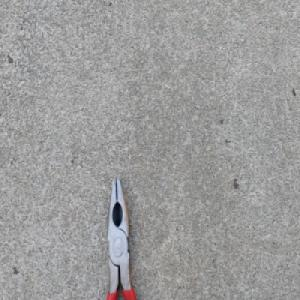Pliers: (104, 175, 138, 300)
